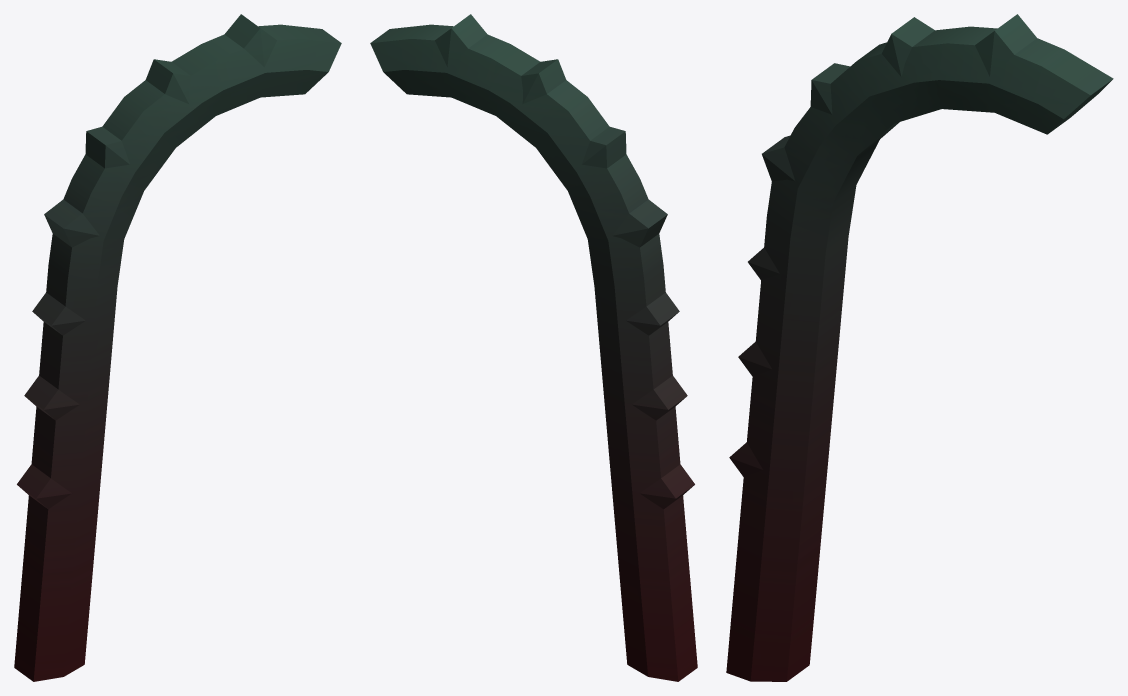
File: SM_Arch_Large_02.fbx
3 renders of one model, left to right at view 1: azimuth 30°, elevation 25°; view 2: azimuth 150°, elevation 25°; view 3: azimuth 330°, elevation 25°, orthographic. The views are drawn at different scales.
Visible parts, largest first — view 1: SM_Arch_Large_02; view 2: SM_Arch_Large_02; view 3: SM_Arch_Large_02.
Boxes of the visible parts, left/top/right/bottom form: SM_Arch_Large_02: left=14, top=14, right=341, bottom=681; SM_Arch_Large_02: left=370, top=14, right=697, bottom=681; SM_Arch_Large_02: left=726, top=14, right=1113, bottom=681.
Bounding box in the file's own units: 459 × 851 × 75.
Materials: 1 (1 with a texture image).
